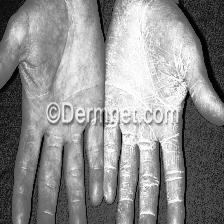Toxin: (106, 5, 182, 105), (104, 127, 182, 211)
